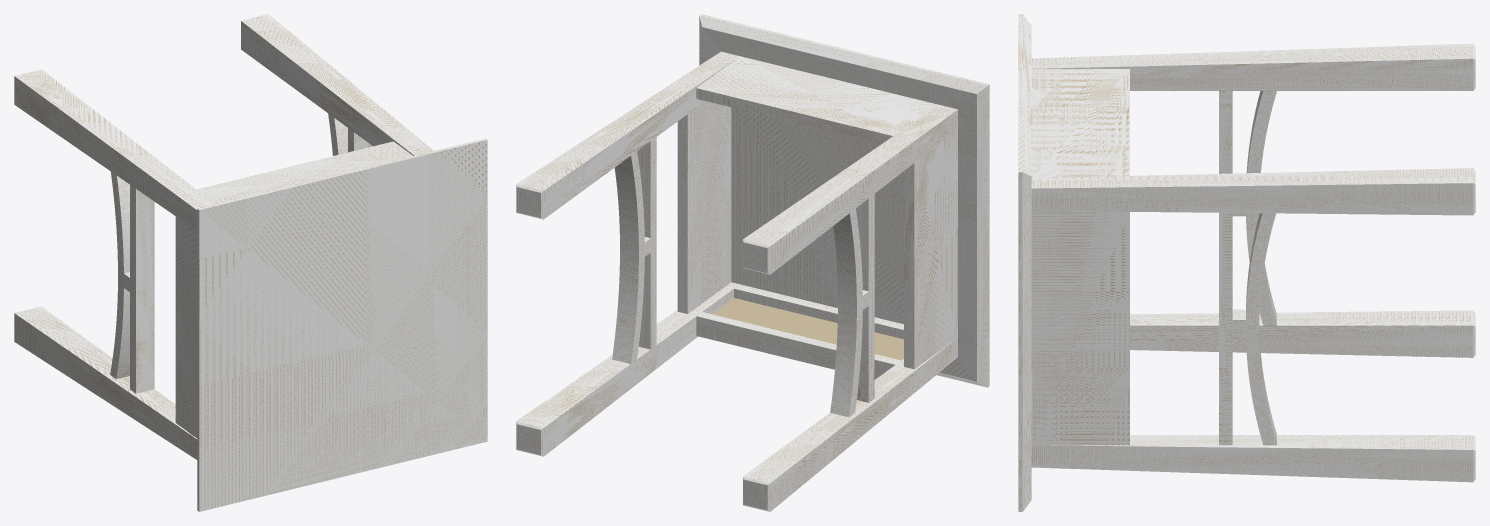
3 renders of one model, left to right at view 1: azimuth 30°, elevation 25°; view 2: azimuth 150°, elevation 25°; view 3: azimuth 270°, elevation 25°, orthographic. The views are drawn at different scales.
Visible parts, largest first — view 1: american bungalow nightstand; view 2: american bungalow nightstand; view 3: american bungalow nightstand.
Boxes of the visible parts, bbox=[...] form: american bungalow nightstand: bbox=[14, 14, 487, 511]; american bungalow nightstand: bbox=[516, 14, 989, 511]; american bungalow nightstand: bbox=[1018, 14, 1475, 511].
Bounding box in the file's own units: 21 × 21 × 25.62.
